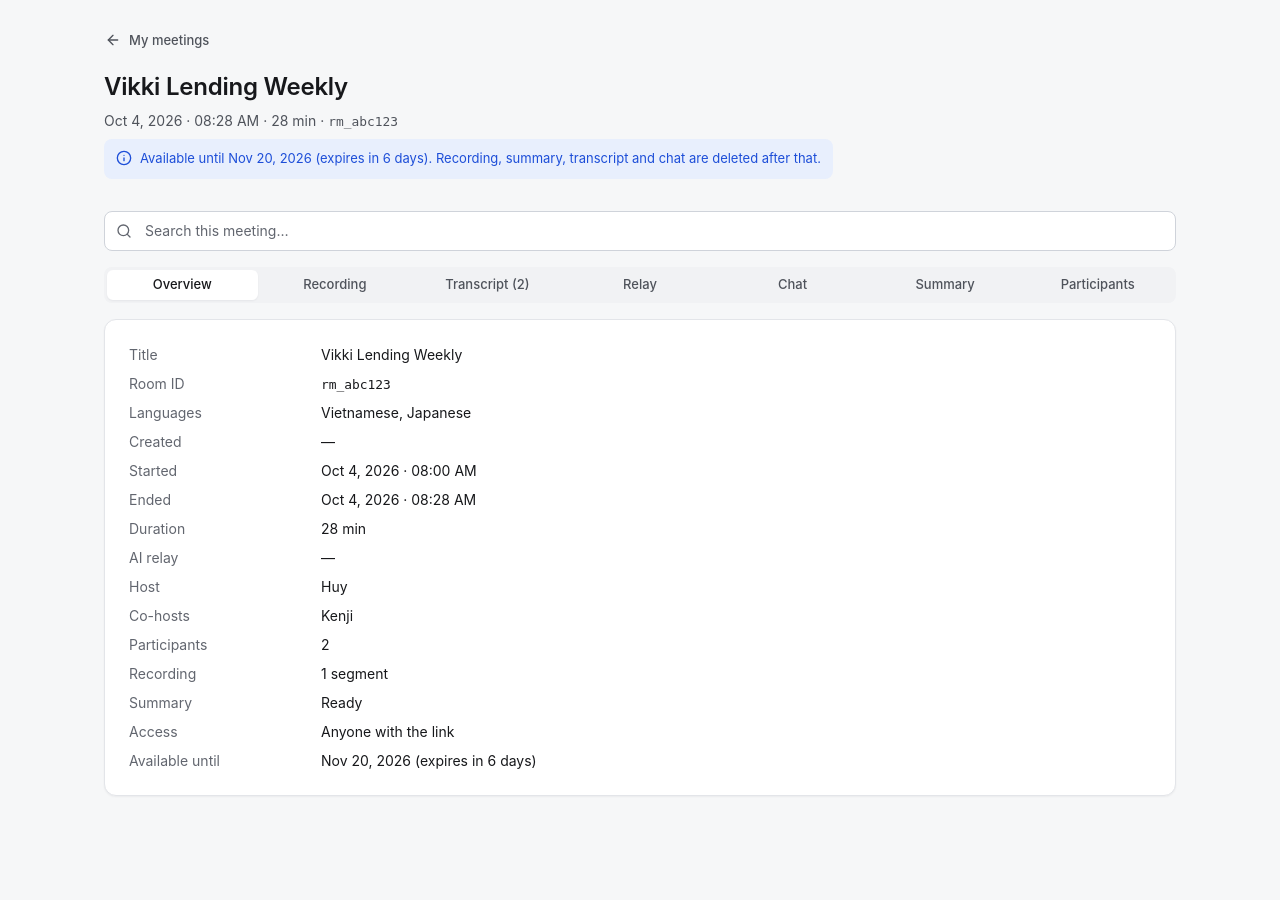
Test: My meetings › searches this meeting and jumps to the matching utterance
This screenshot has width=1280, height=900.
expect the heading "Vikki Lending Weekly" is shown: met, box [104,72,348,102]
Type "production" into the search field labelled "Search this meeting".
click(640, 231); type("production")  # box [104,211,1176,251]
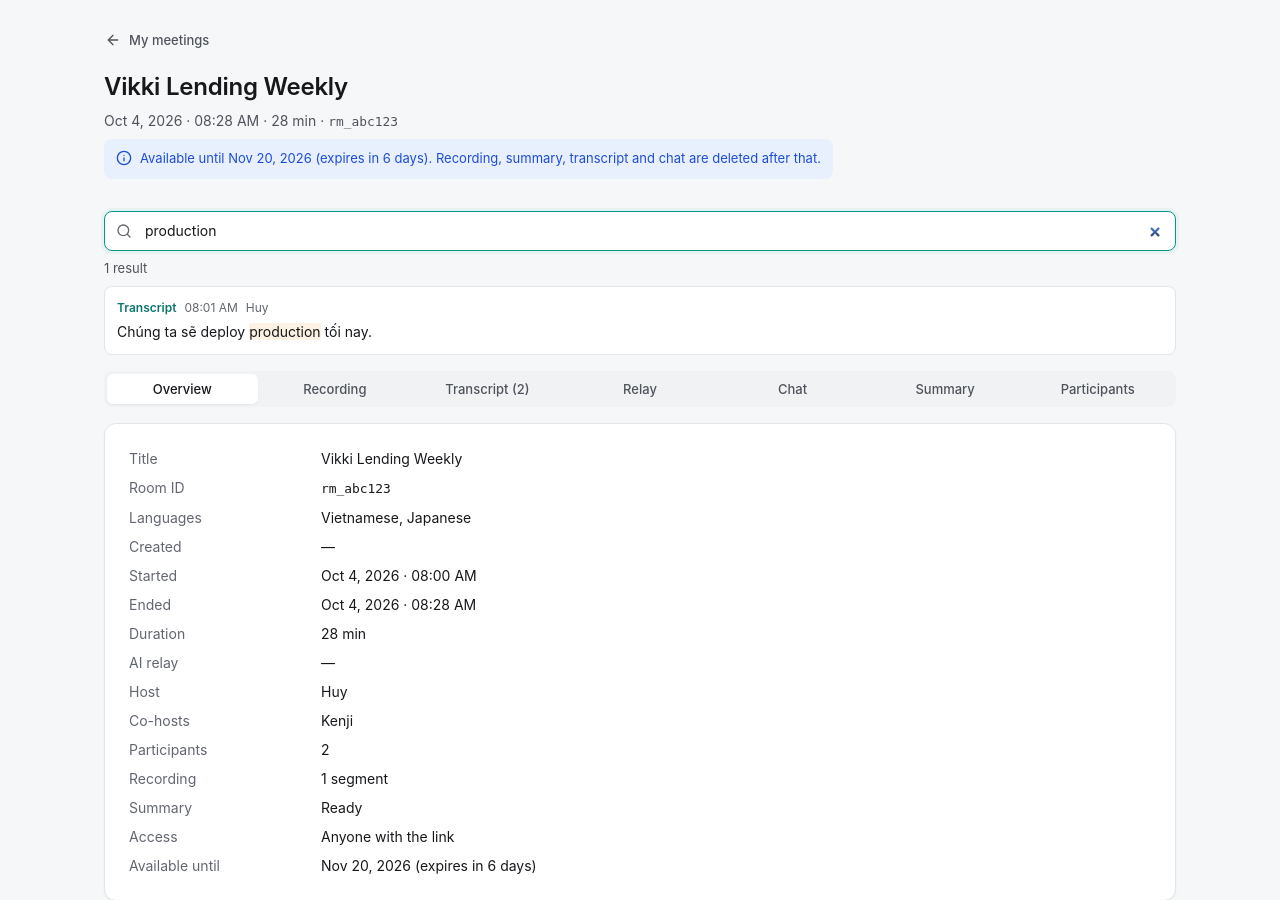
Click the button.
click(147, 308)  # box [104,286,1176,355]
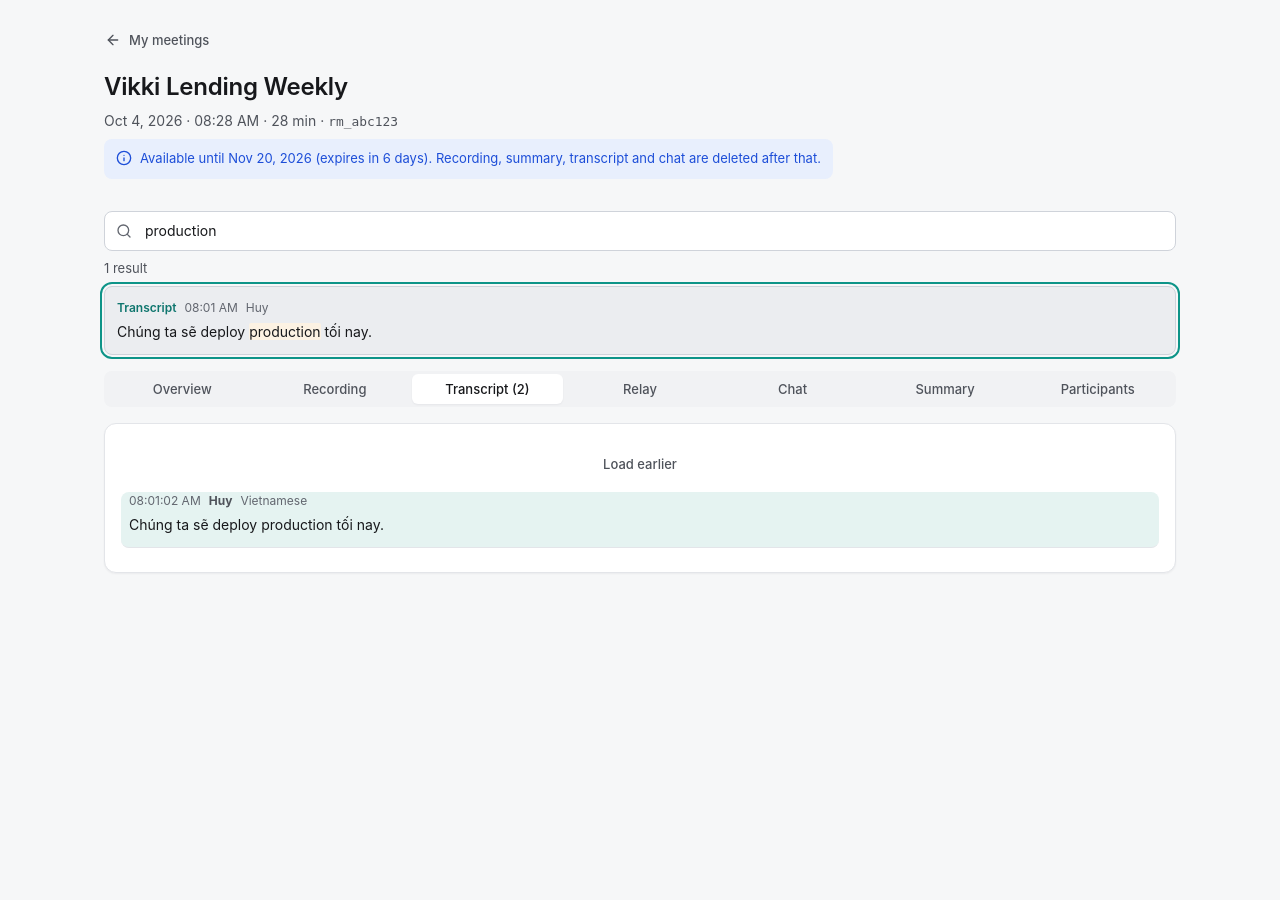
expect the button "Load earlier" is shown: met, box [129,448,1151,480]
